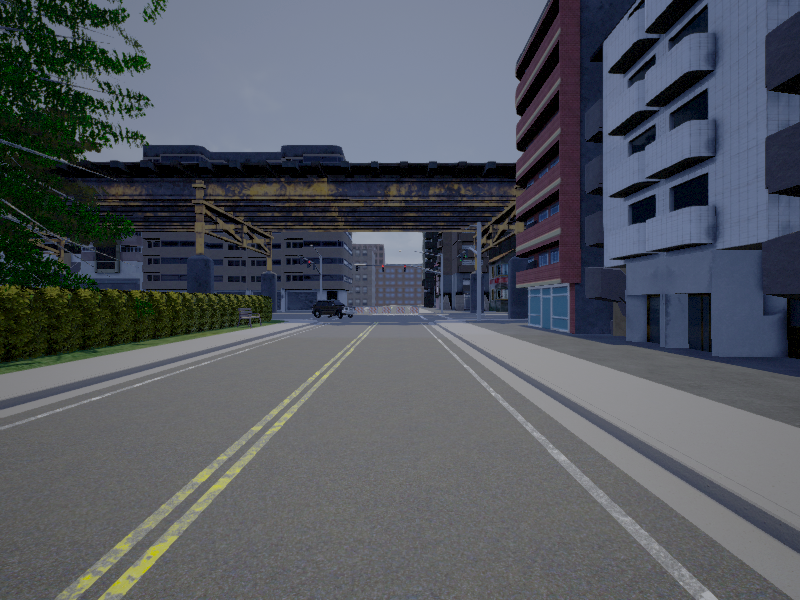Benign: (312, 297, 356, 320)
